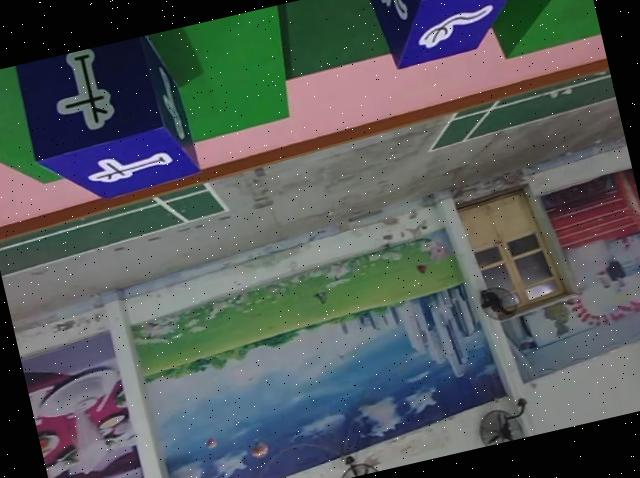R2 Real Blue: (12, 29, 203, 215), (365, 0, 536, 71)
